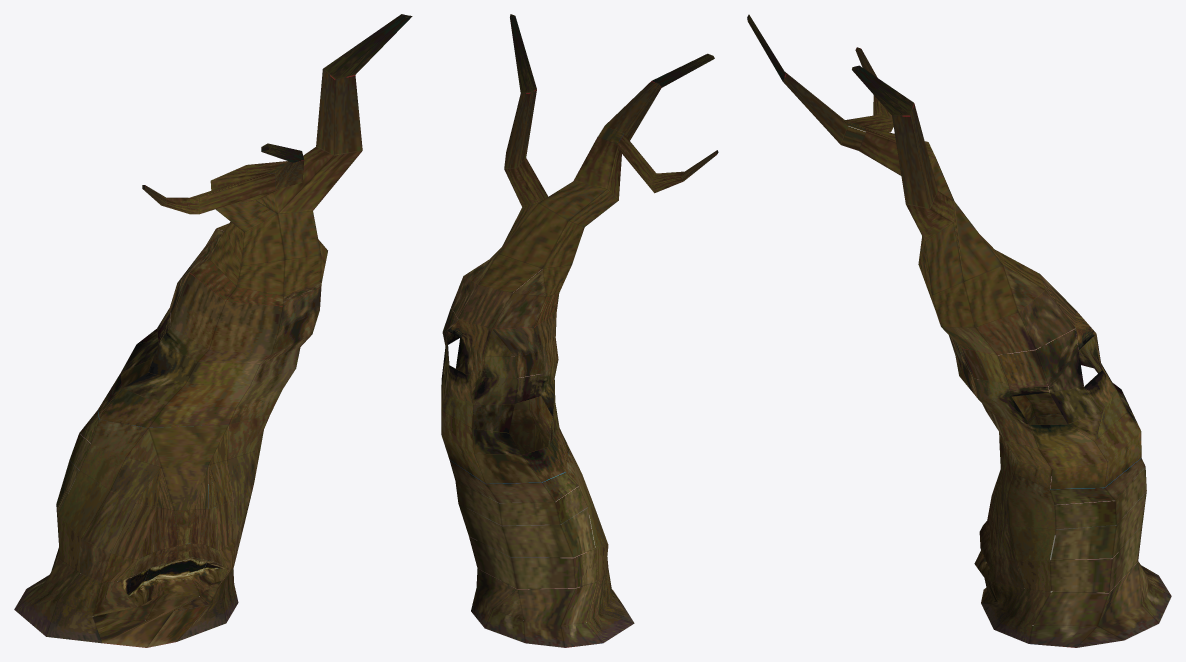
3 views of the same model, side by side, from view 1: azimuth 30°, elevation 25°; view 2: azimuth 150°, elevation 25°; view 3: azimuth 270°, elevation 25° (orthographic). The views are drawn at different scales.
Visible parts, largest first — view 1: T1L1M005_3; view 2: T1L1M005_3; view 3: T1L1M005_3.
Boxes of the visible parts, x1,y1,x2,y2 form: T1L1M005_3: (14, 14, 412, 647); T1L1M005_3: (441, 14, 718, 647); T1L1M005_3: (747, 14, 1171, 647).
Bounding box in the file's own units: 6.96 × 15.85 × 9.93.
